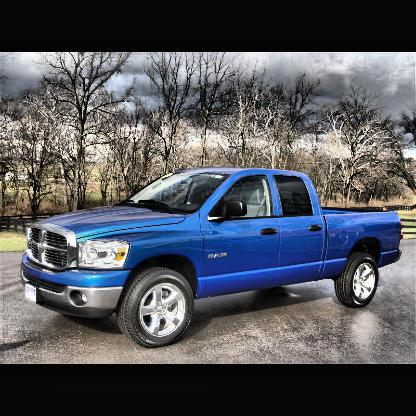Dodge Ram Pickup 3500 Quad Cab 2009: (20, 165, 405, 354)
